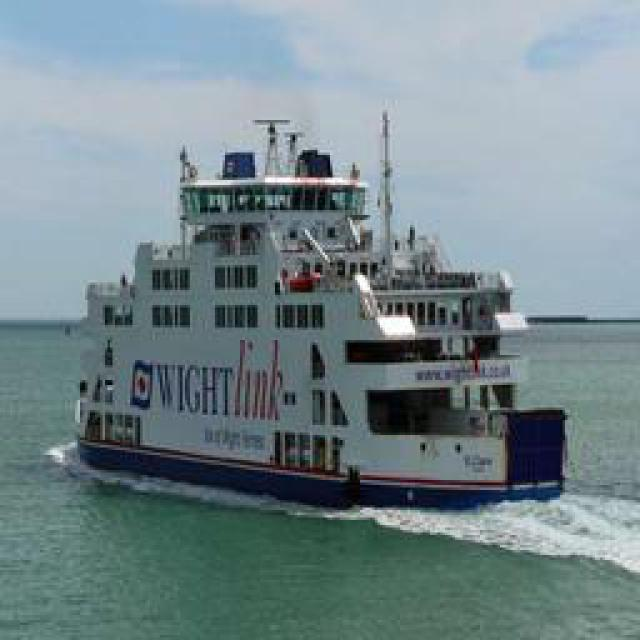Ship: (71, 99, 551, 509)
